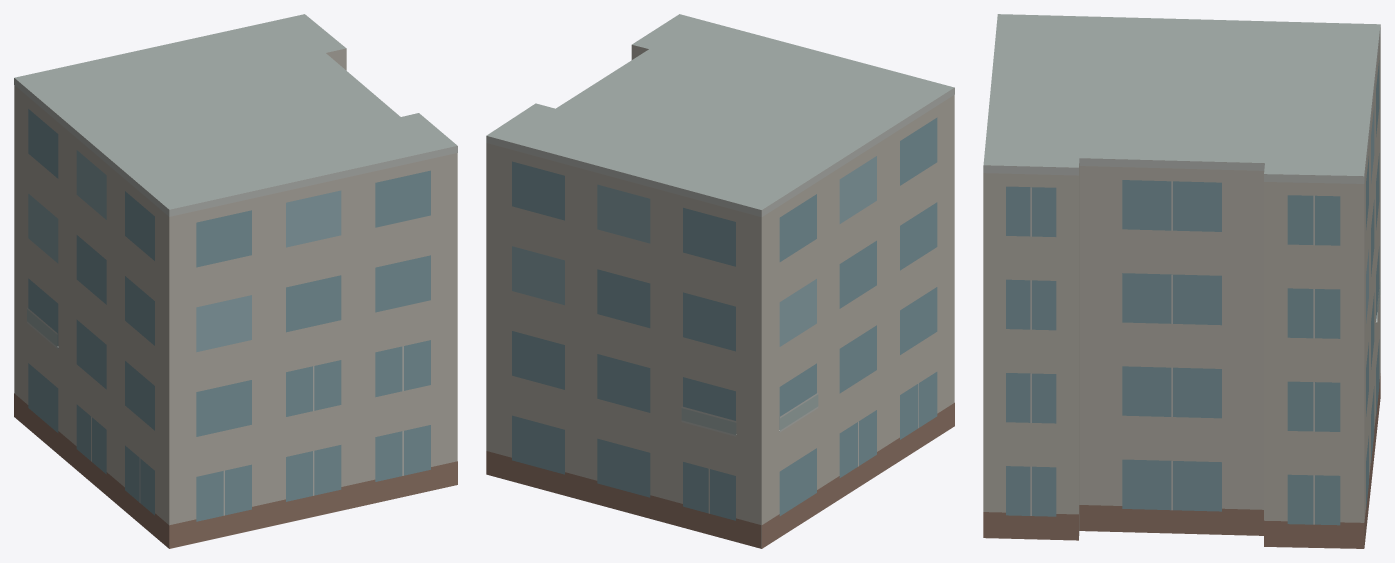
File: survey-upis-32810021.glb
3 renders of one model, left to right at view 1: azimuth 30°, elevation 25°; view 2: azimuth 150°, elevation 25°; view 3: azimuth 270°, elevation 25°, orthographic. The views are drawn at different scales.
Visible parts, largest first — view 1: survey-upis-32810021.tmp; view 2: survey-upis-32810021.tmp; view 3: survey-upis-32810021.tmp.
Part boxes in pixels (<box>): survey-upis-32810021.tmp: <box>14,14,457,548</box>; survey-upis-32810021.tmp: <box>486,14,954,548</box>; survey-upis-32810021.tmp: <box>983,14,1380,548</box>.
Size of the model in its own units: 10.83 by 11.6 by 11.21.
